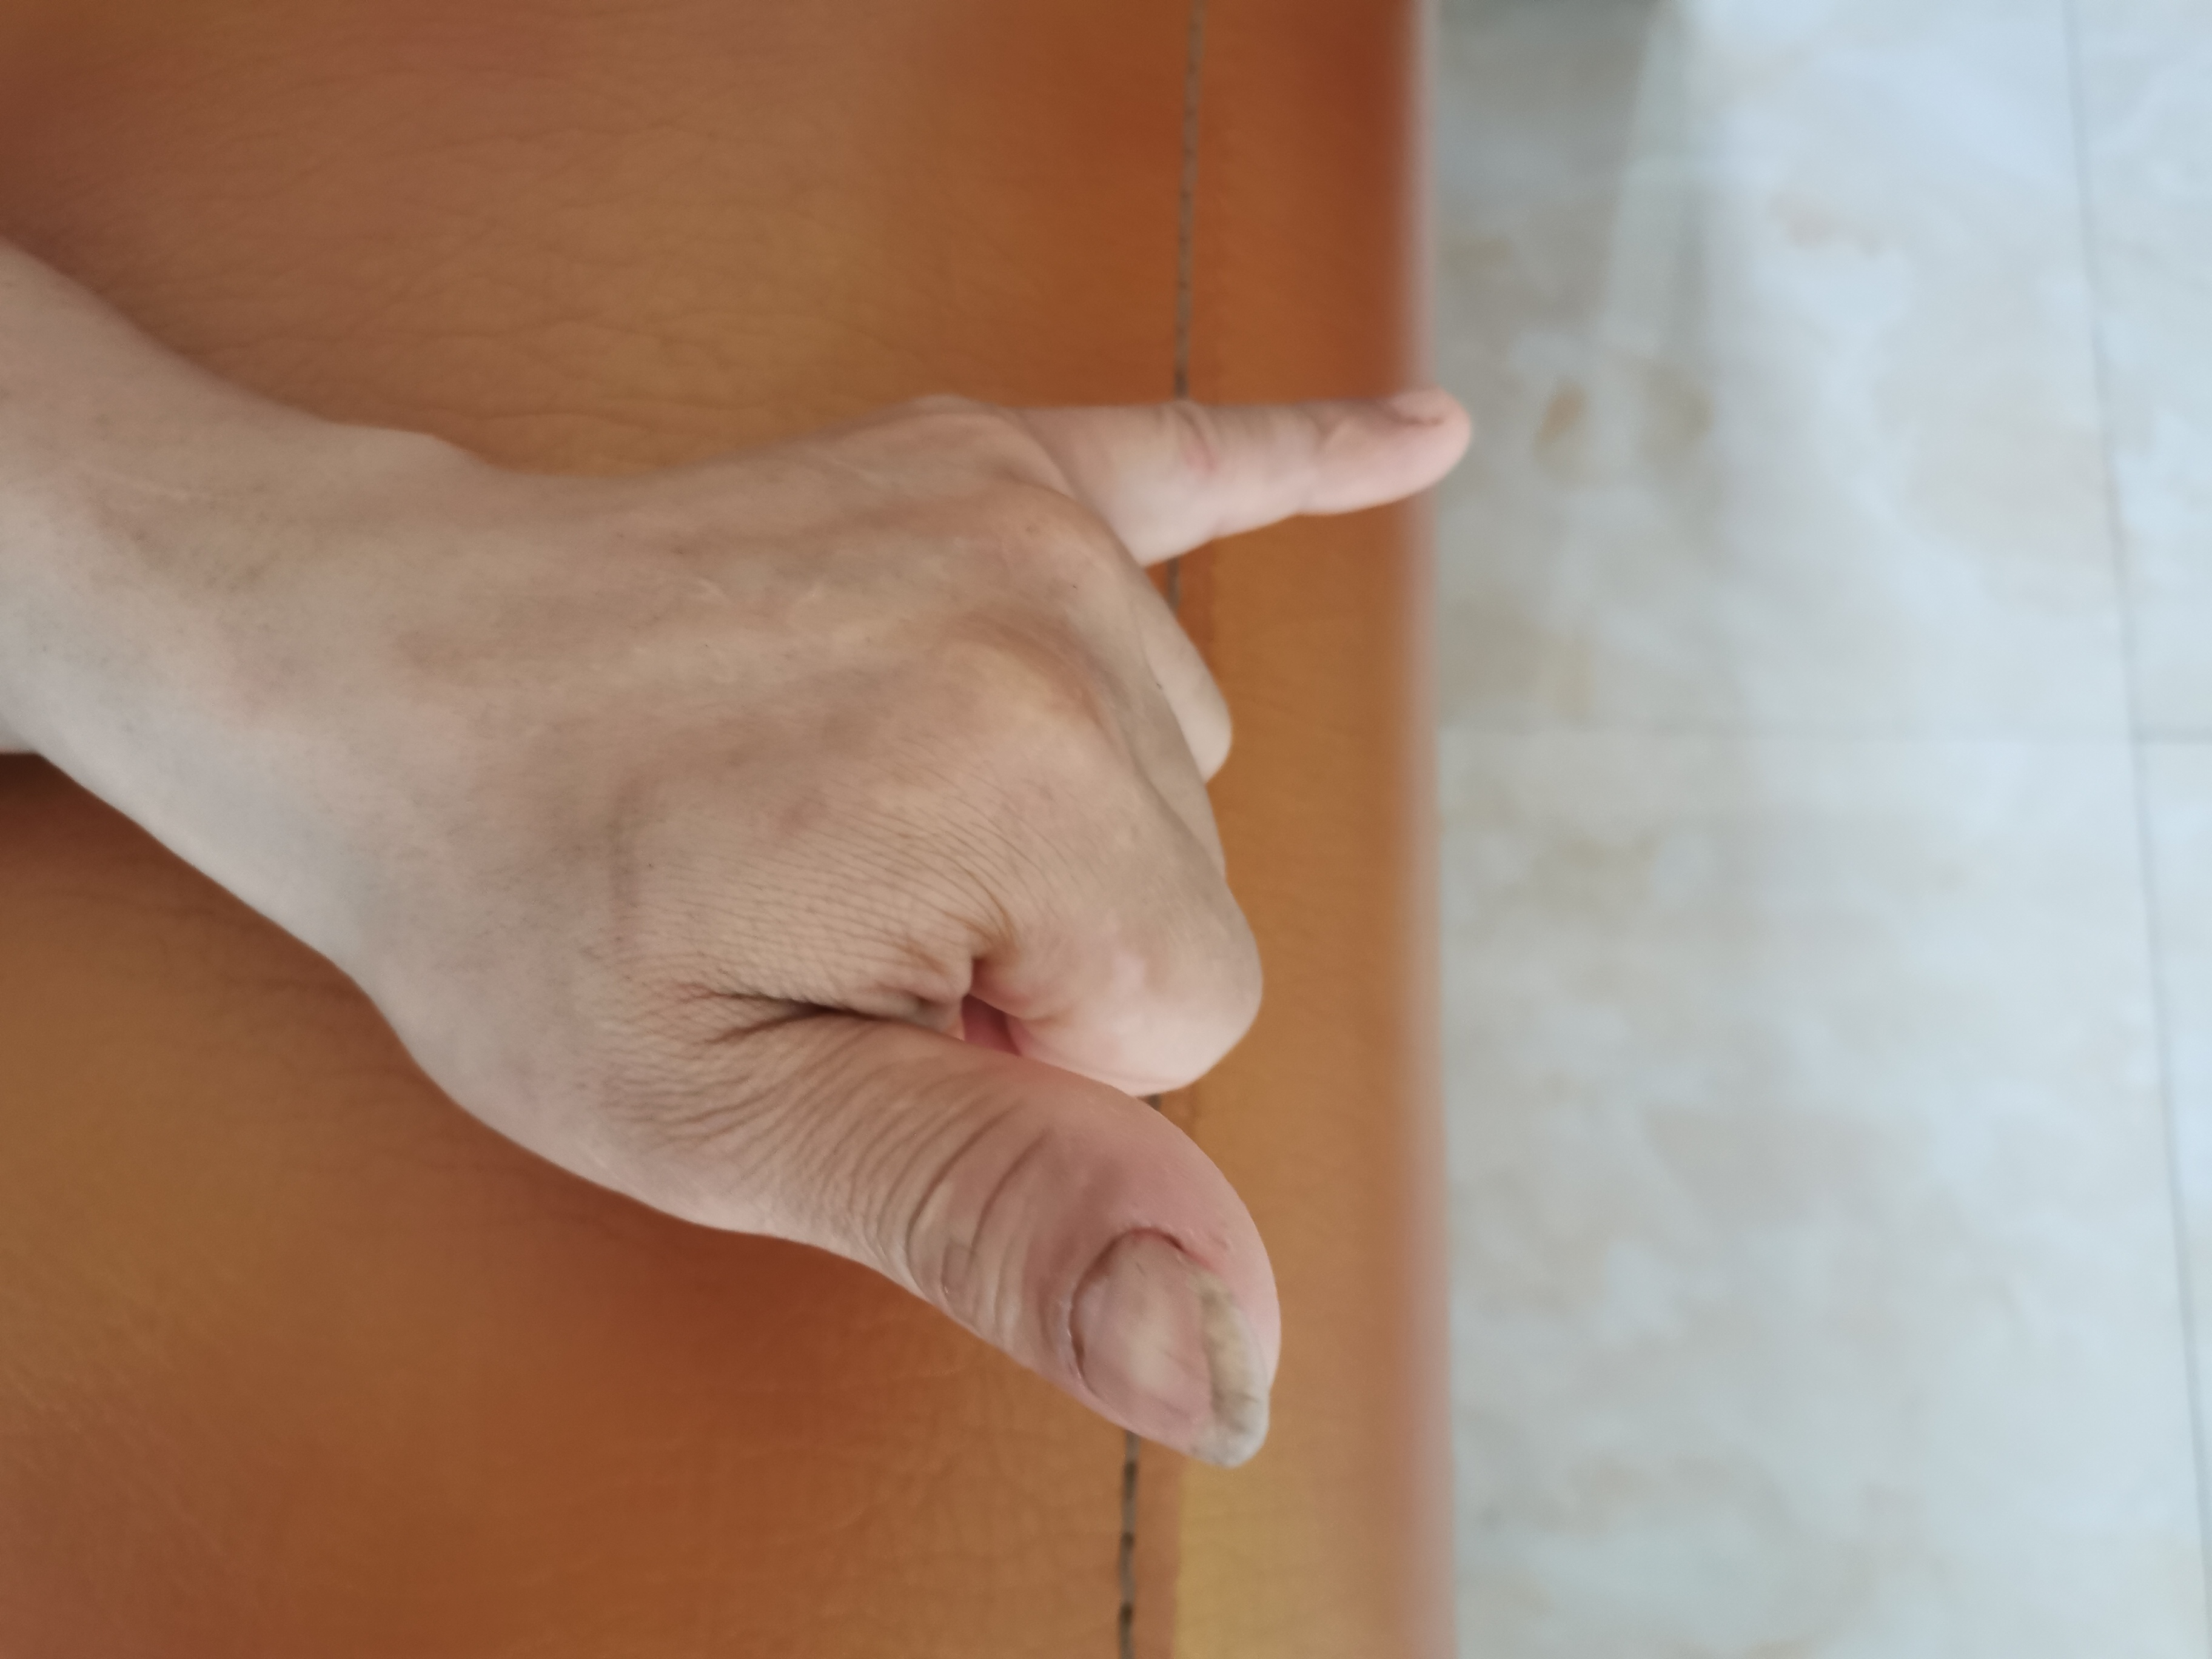clockwise: (312, 368, 1522, 1474)
